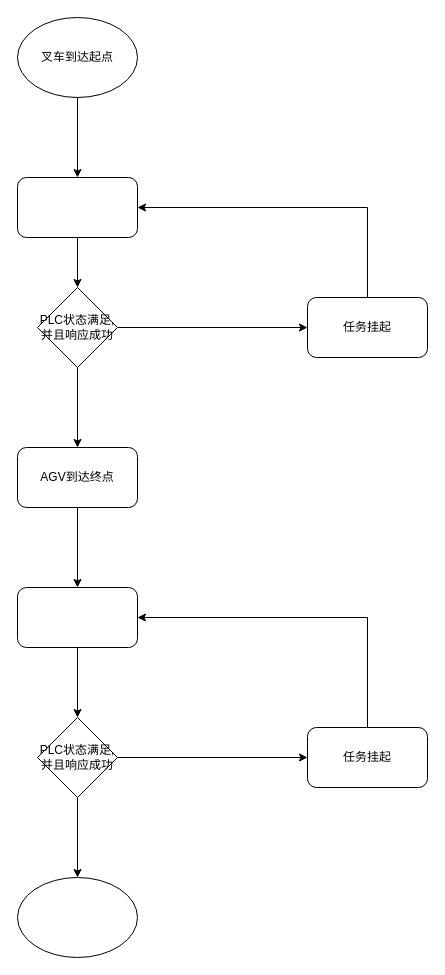
Some shapes in this 445 by 975 pixel diagram are drawn without their labels. Here are the shapes that lost their labels. From the top down, the centre of each, then its label:
(77,207): MCS校验状态, 并发起对接流程
(77,617): MCS校验状态并发起对接流程
(77,917): 物料转运完成, 任务成功
